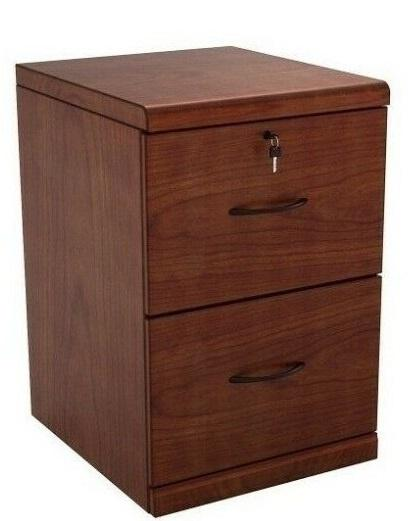cabinet_door: (147, 120, 382, 299), (149, 286, 379, 460)
handle: (228, 354, 307, 393), (227, 191, 311, 225)
